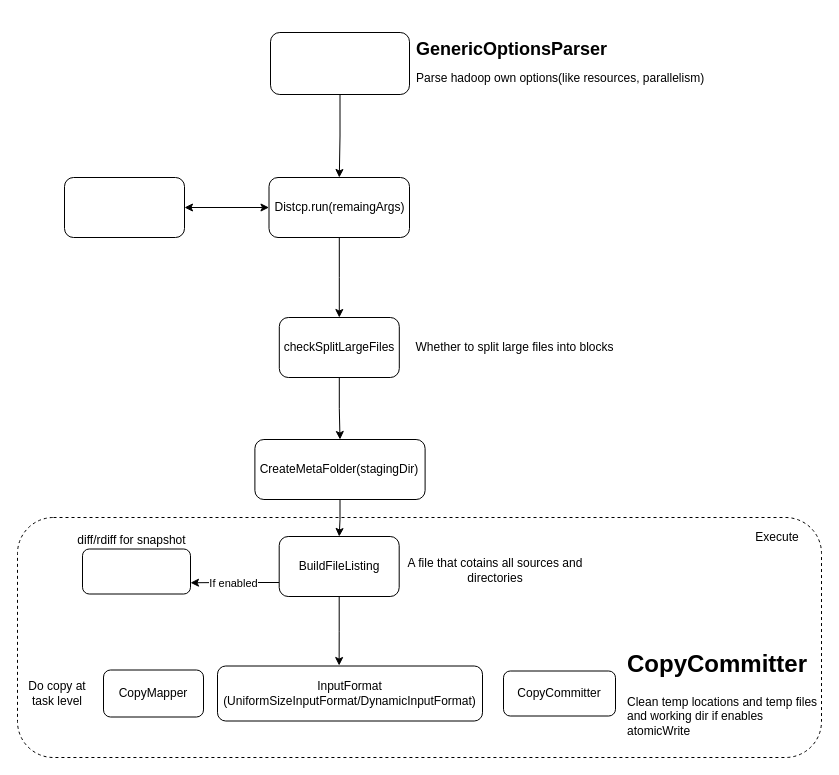
This 839x775 diagram has some shape labels left out. Each missing label, with the centre of its shape:
"DisctpContext" goes at point (124, 207).
"DisctpSync" goes at point (136, 571).
"GenericOptionsParser" goes at point (340, 63).
